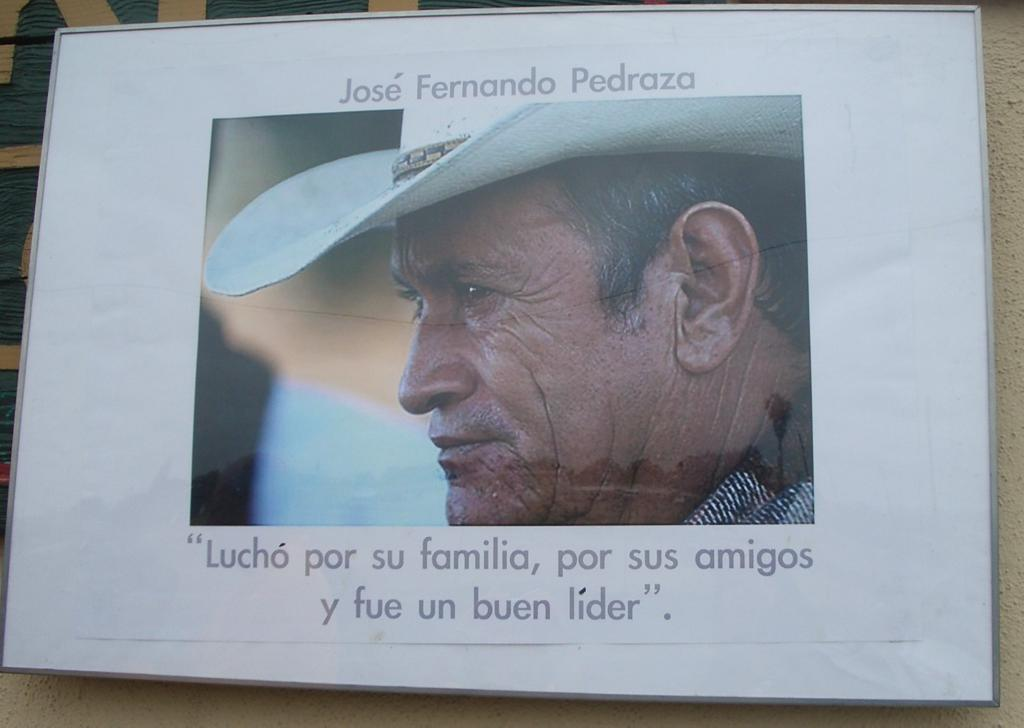face: (400, 122, 690, 516)
